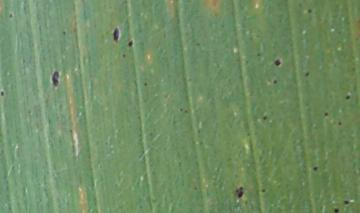tarspot: (50, 70, 61, 88), (232, 185, 244, 199), (112, 26, 120, 43), (273, 57, 281, 68), (271, 77, 278, 86), (303, 70, 310, 79), (127, 39, 134, 48), (342, 198, 350, 205), (311, 165, 319, 172), (259, 187, 267, 194), (336, 119, 343, 127), (7, 12, 15, 19), (306, 7, 313, 14), (60, 29, 67, 36), (255, 51, 262, 58), (331, 207, 339, 213), (262, 114, 268, 122), (323, 110, 329, 118), (344, 94, 351, 100), (142, 80, 148, 87), (1, 89, 5, 98), (121, 52, 126, 59), (177, 106, 182, 113)
